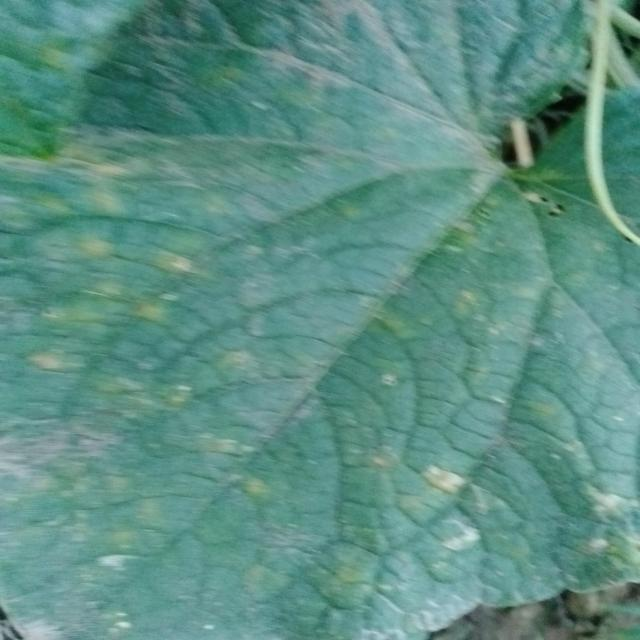cucumber_downy: (4, 46, 637, 619)
